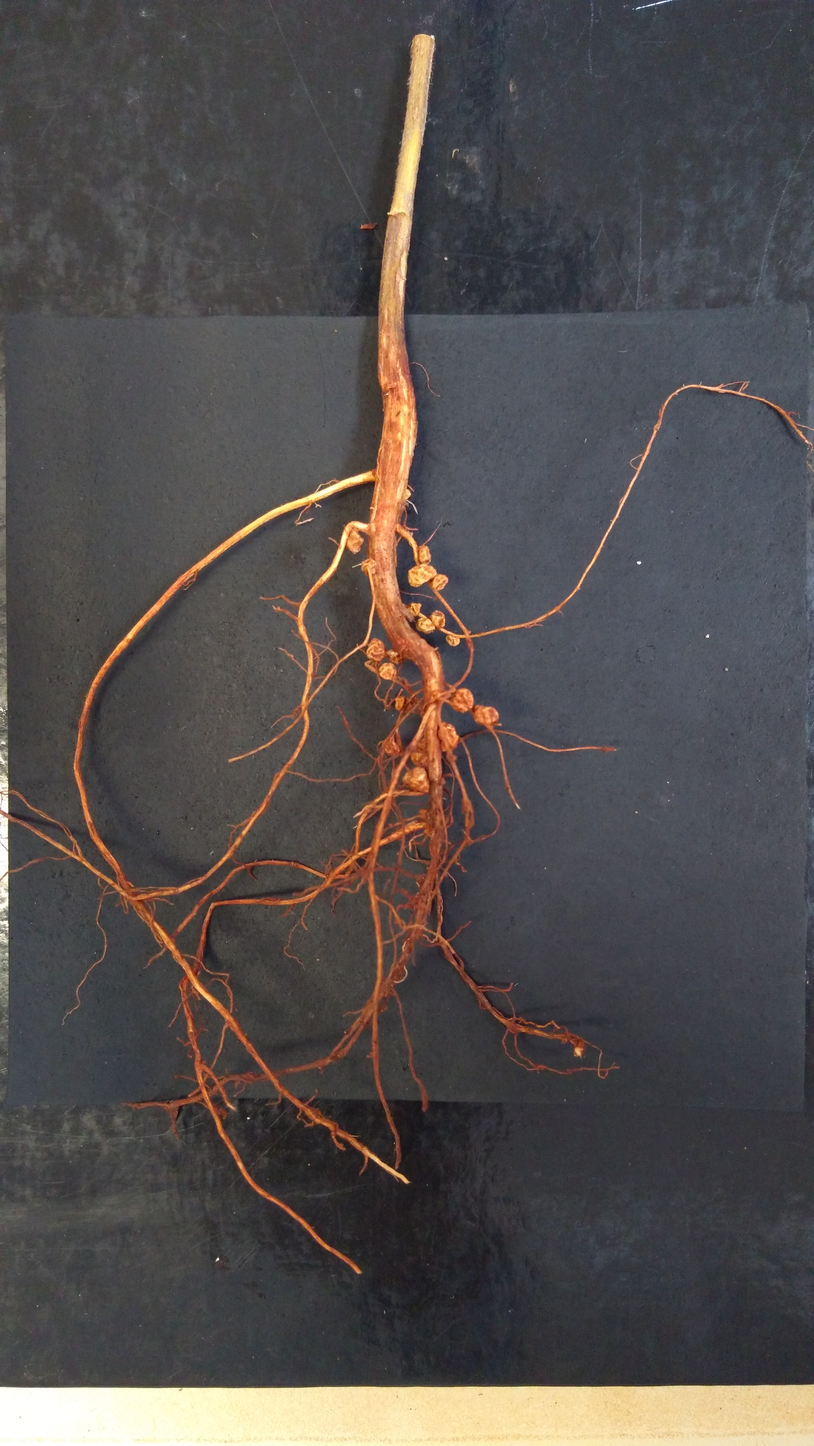nodule: (400, 764, 431, 794), (436, 720, 462, 754), (407, 563, 438, 589), (449, 686, 475, 715), (472, 703, 501, 726), (345, 525, 365, 556), (365, 637, 388, 662), (408, 750, 431, 769), (415, 616, 436, 635), (430, 573, 449, 593), (378, 661, 397, 681), (428, 609, 446, 630), (382, 739, 401, 757), (417, 544, 432, 566), (360, 557, 377, 576), (407, 602, 422, 617), (444, 635, 461, 648), (394, 695, 406, 712), (572, 1045, 584, 1059), (417, 807, 429, 820), (403, 489, 411, 500)
